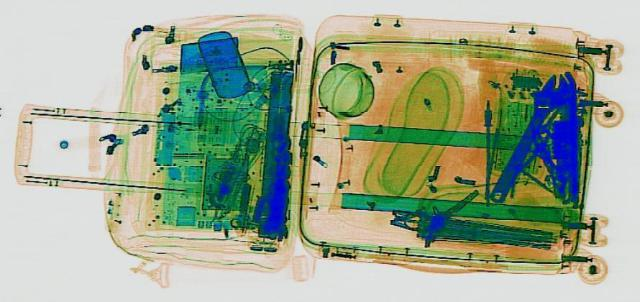Wrench: (476, 71, 582, 202)
